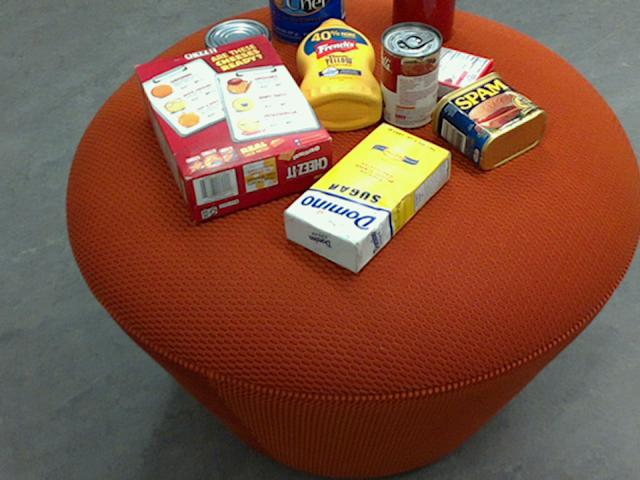cracker_box: (131, 32, 332, 219)
gelatin_box: (404, 44, 493, 106)
large_marker: (409, 0, 429, 39)
master_chef_can: (267, 0, 344, 43)
mug: (390, 0, 455, 45)
mustard_bottle: (295, 18, 380, 130)
potted_meat_can: (430, 72, 544, 169)
sugar_box: (283, 121, 450, 273)
tomato_soup_can: (380, 21, 441, 127)
tuna_fish_can: (201, 19, 270, 74)
